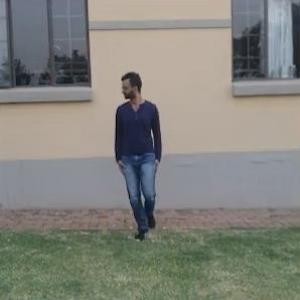follow: (113, 70, 163, 241)
